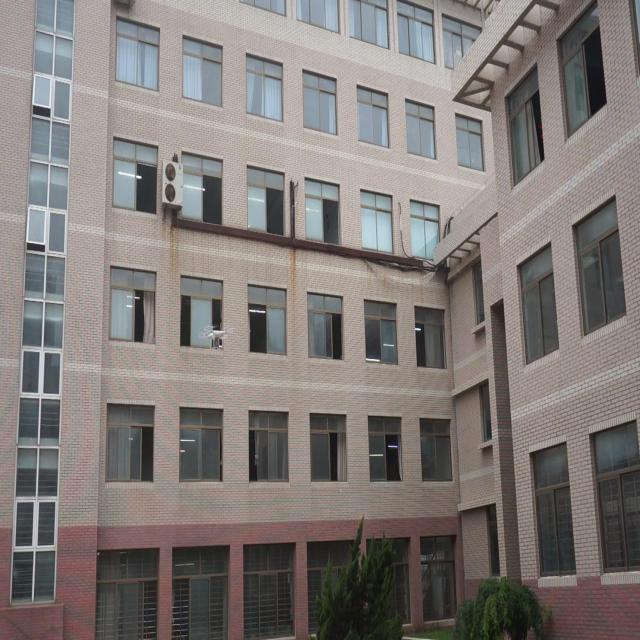drone: (199, 322, 237, 352)
